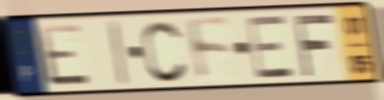C: (141, 18, 190, 85)
E: (35, 21, 94, 89), (245, 13, 298, 81)
F: (183, 15, 235, 84), (291, 12, 335, 80)
I: (106, 18, 131, 89)
